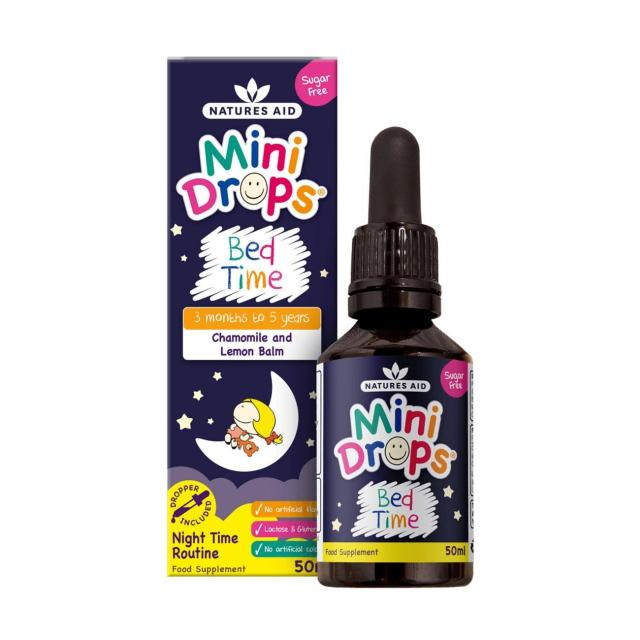mini-drop: (165, 62, 318, 573), (337, 333, 473, 582)
